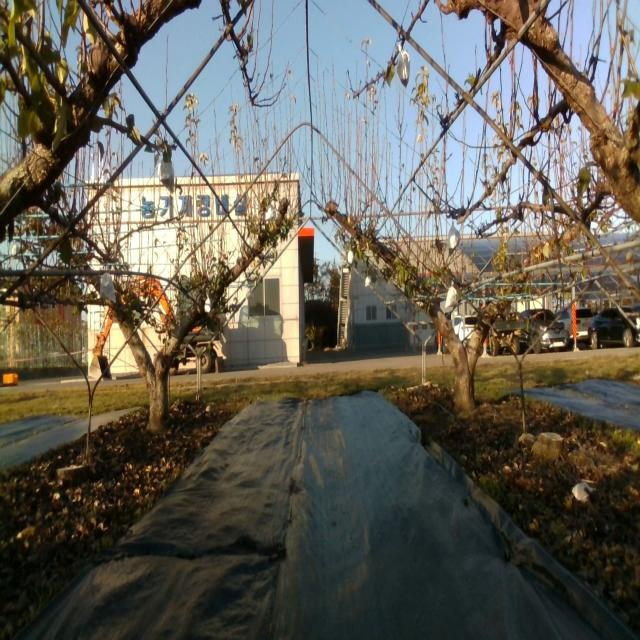pearbags: (157, 158, 174, 195), (397, 44, 411, 87), (99, 270, 116, 302), (447, 220, 460, 256), (445, 282, 459, 308)
